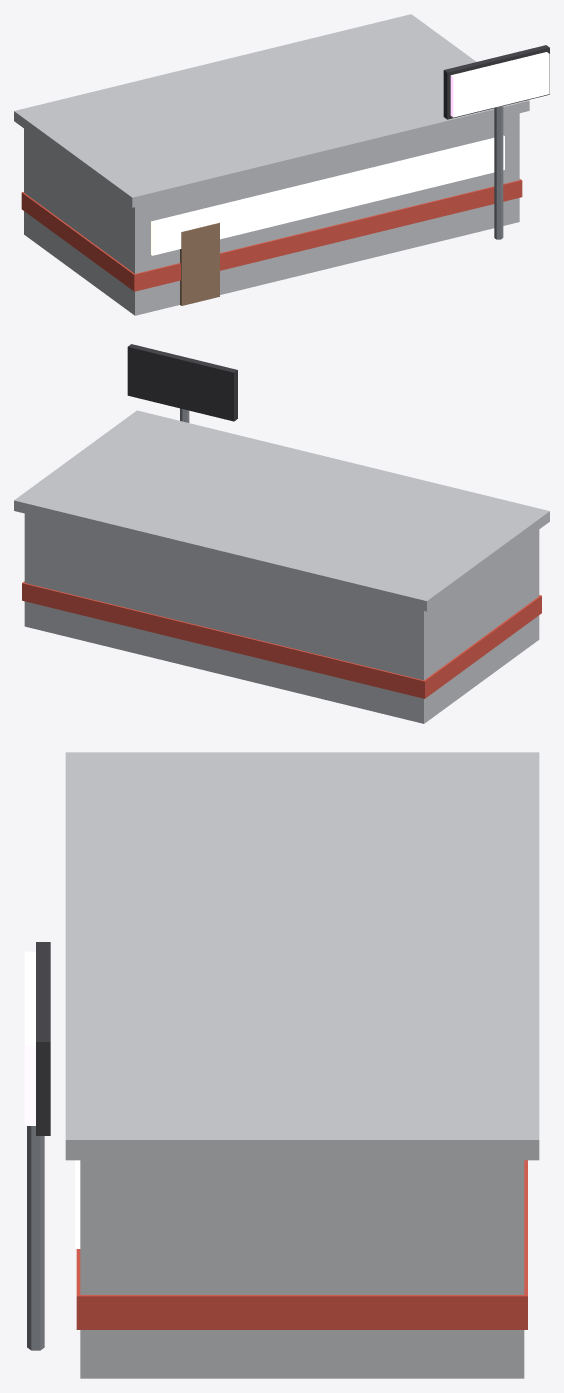
Rendered from diner.glb.
The picture shows the model from 3 angles, top to bottom: view 1: azimuth 30°, elevation 25°; view 2: azimuth 150°, elevation 25°; view 3: azimuth 270°, elevation 25°; orthographic projection. The views are drawn at different scales.
Parts seen in each view (by area): view 1: diner; view 2: diner; view 3: diner.
Boxes of the visible parts, x1,y1,x2,y2 form: diner: (14,14,549,315); diner: (14,344,549,723); diner: (24,752,539,1378).
Size of the model in its own units: 12.8 by 5.3 by 6.95.
